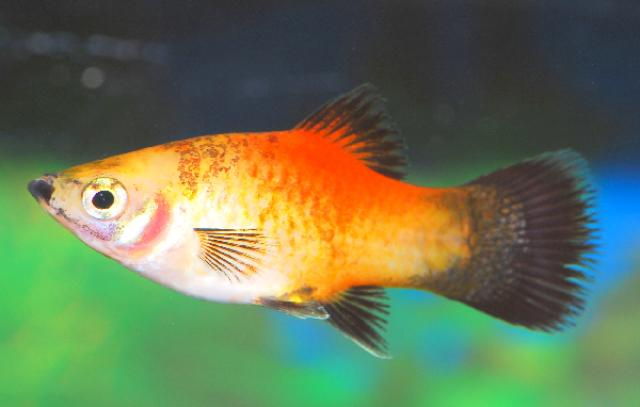Mulut: (16, 161, 68, 247)
Sirip Anal: (326, 262, 398, 375)
Sirip Dada: (184, 217, 282, 295)
Sirip Ekor: (448, 134, 618, 352)
Sirip Perut: (242, 278, 338, 334)
Sirip Punggung: (286, 70, 422, 188)
